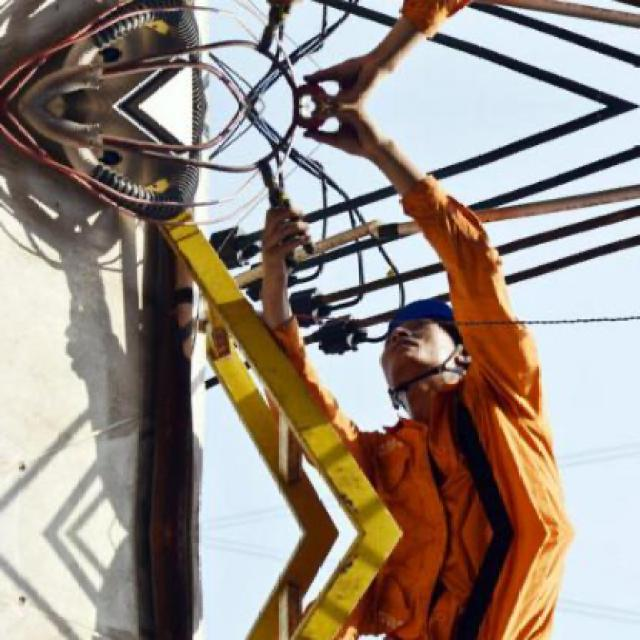helmet: (369, 285, 469, 424)
